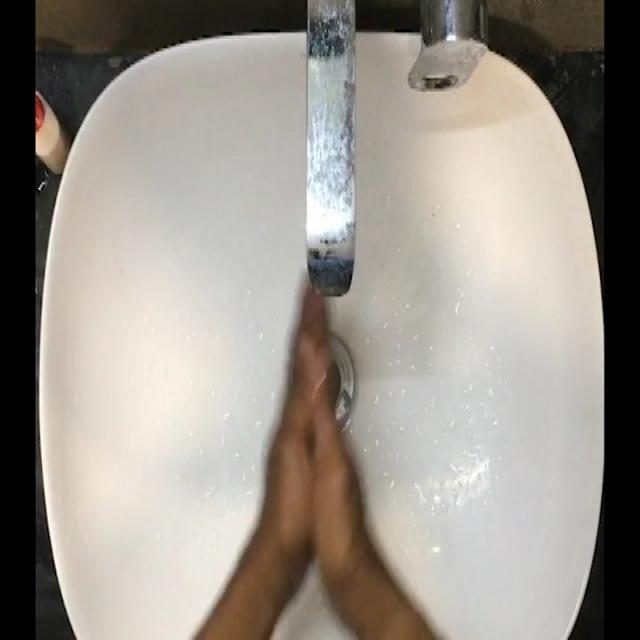step_1: (248, 242, 368, 558)
